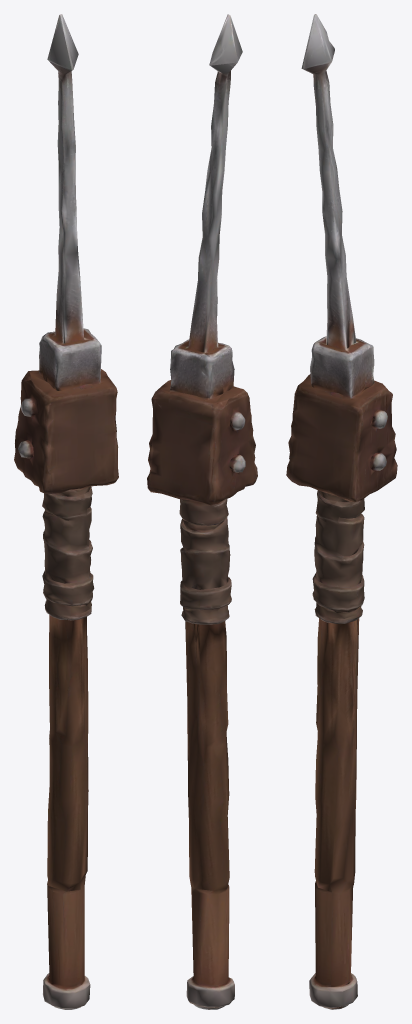
The model's file is javelin.glb.
3 views of the same model, side by side, from view 1: azimuth 30°, elevation 25°; view 2: azimuth 150°, elevation 25°; view 3: azimuth 330°, elevation 25° (orthographic).
Parts seen in each view (by area): view 1: weapon; view 2: weapon; view 3: weapon.
Part boxes in pixels (<box>): weapon: <box>14,14,118,1009</box>; weapon: <box>147,14,257,1009</box>; weapon: <box>286,14,397,1009</box>.
Bounding box in the file's own units: 0.0957 × 1 × 0.0803.
Materials: 1 (1 with a texture image).
